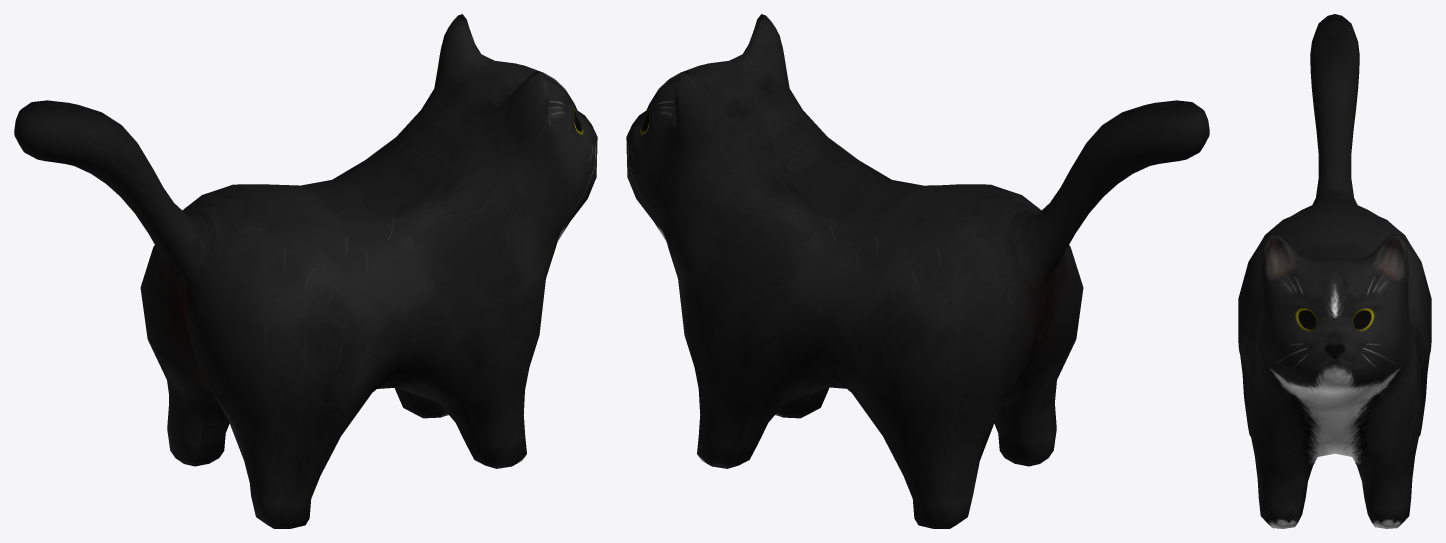
File: Cat.glb
The picture shows the model from 3 angles, left to right: view 1: azimuth 30°, elevation 25°; view 2: azimuth 150°, elevation 25°; view 3: azimuth 270°, elevation 25°; orthographic projection. The views are drawn at different scales.
Parts seen in each view (by area): view 1: Cat_low; view 2: Cat_low; view 3: Cat_low.
Boxes of the visible parts, <box> form: Cat_low: <box>14,14,597,528</box>; Cat_low: <box>626,14,1209,528</box>; Cat_low: <box>1238,14,1431,528</box>.
Size of the model in its own units: 0.015 by 0.011 by 0.0056.
1 material, 1 textured.
